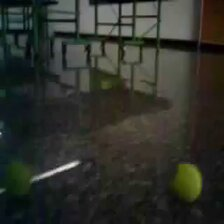tennis: (171, 163, 205, 202)
